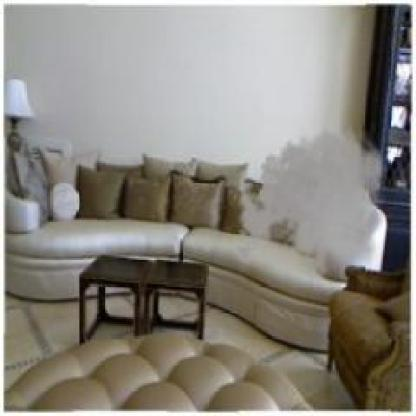Smoke: (229, 117, 390, 294)
